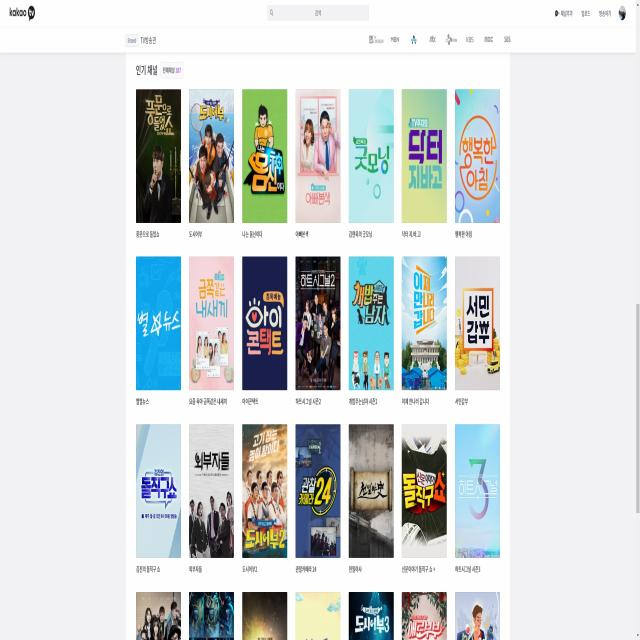menu-bar: (552, 2, 628, 24)
tab-bar: (367, 29, 512, 49)
